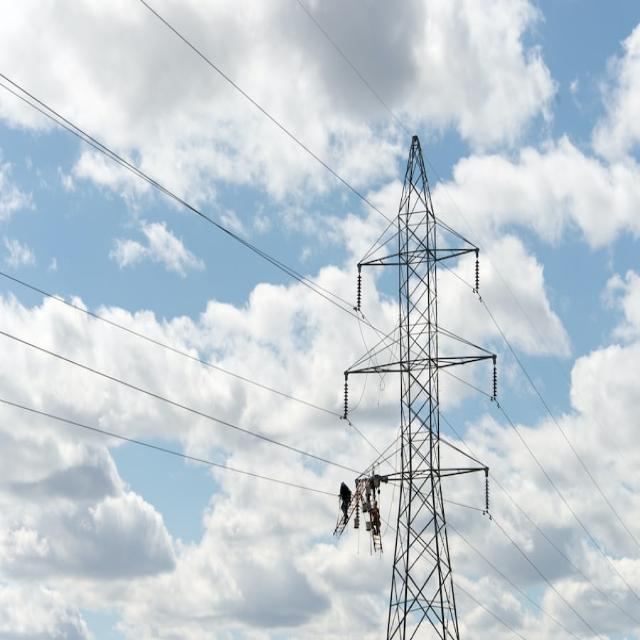transmission tower: (349, 111, 522, 472)
